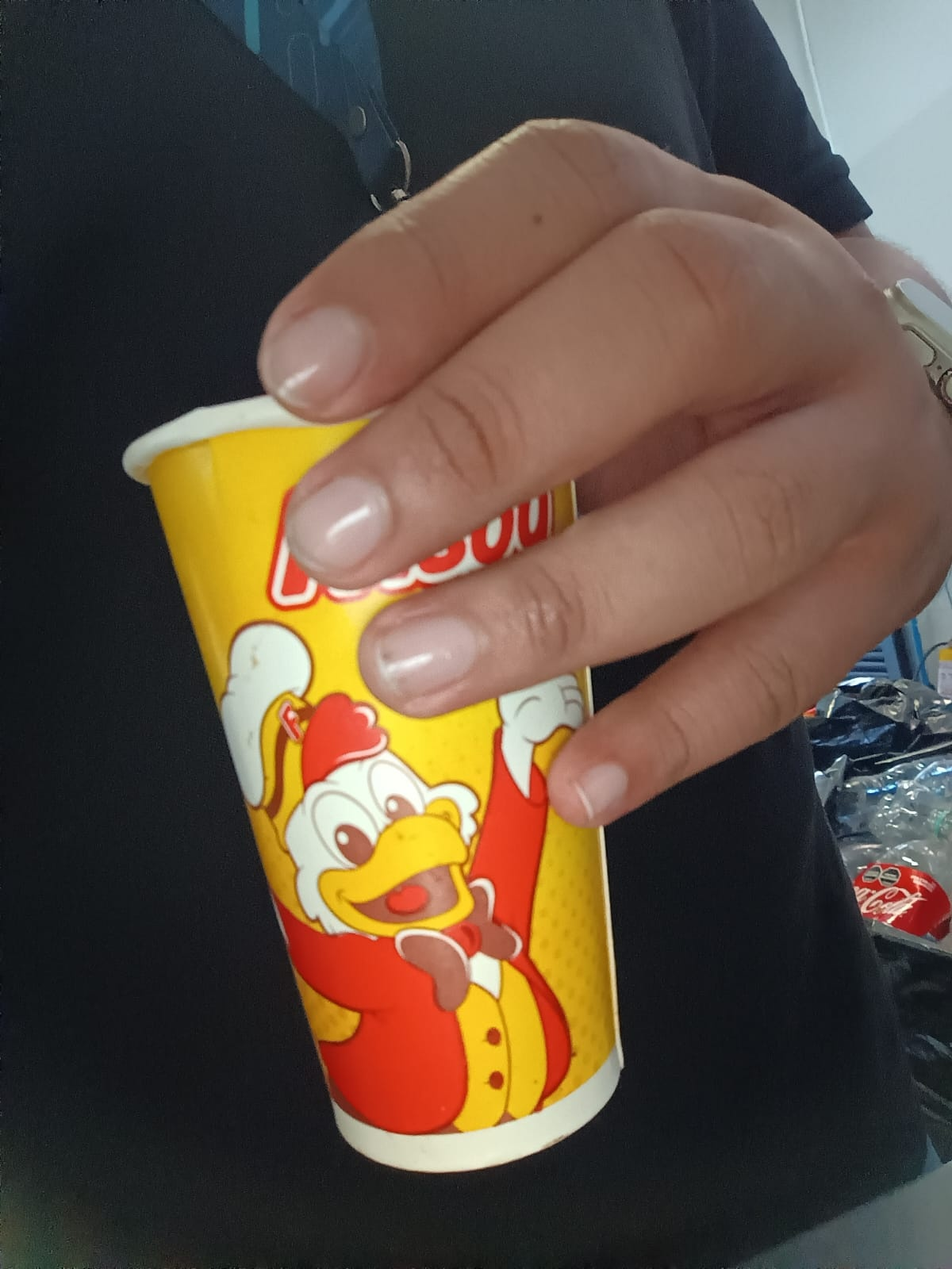Carton: (122, 393, 625, 1172)
